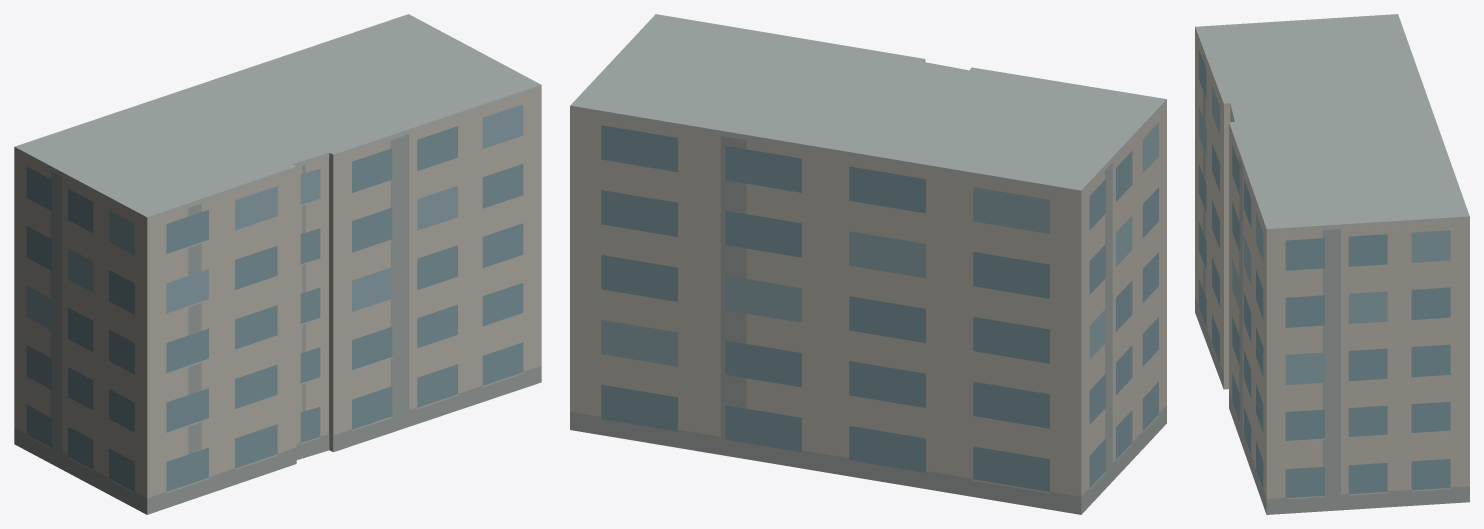
Rendered from survey-upis-32760182.glb.
The picture shows the model from 3 angles, left to right: view 1: azimuth 30°, elevation 25°; view 2: azimuth 150°, elevation 25°; view 3: azimuth 270°, elevation 25°; orthographic projection. The views are drawn at different scales.
Visible parts, largest first — view 1: survey-upis-32760182.tmp; view 2: survey-upis-32760182.tmp; view 3: survey-upis-32760182.tmp.
Boxes of the visible parts, x1,y1,x2,y2 form: survey-upis-32760182.tmp: (14, 14, 541, 514); survey-upis-32760182.tmp: (570, 14, 1166, 514); survey-upis-32760182.tmp: (1195, 14, 1469, 514).
Bounding box in the file's own units: 24.62 × 15.25 × 13.3.
